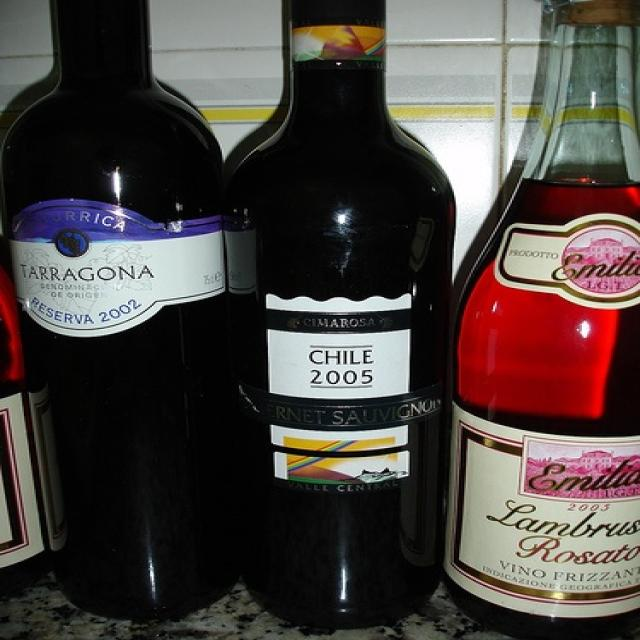bottle: (225, 3, 462, 634), (1, 1, 240, 626), (438, 1, 639, 637)
